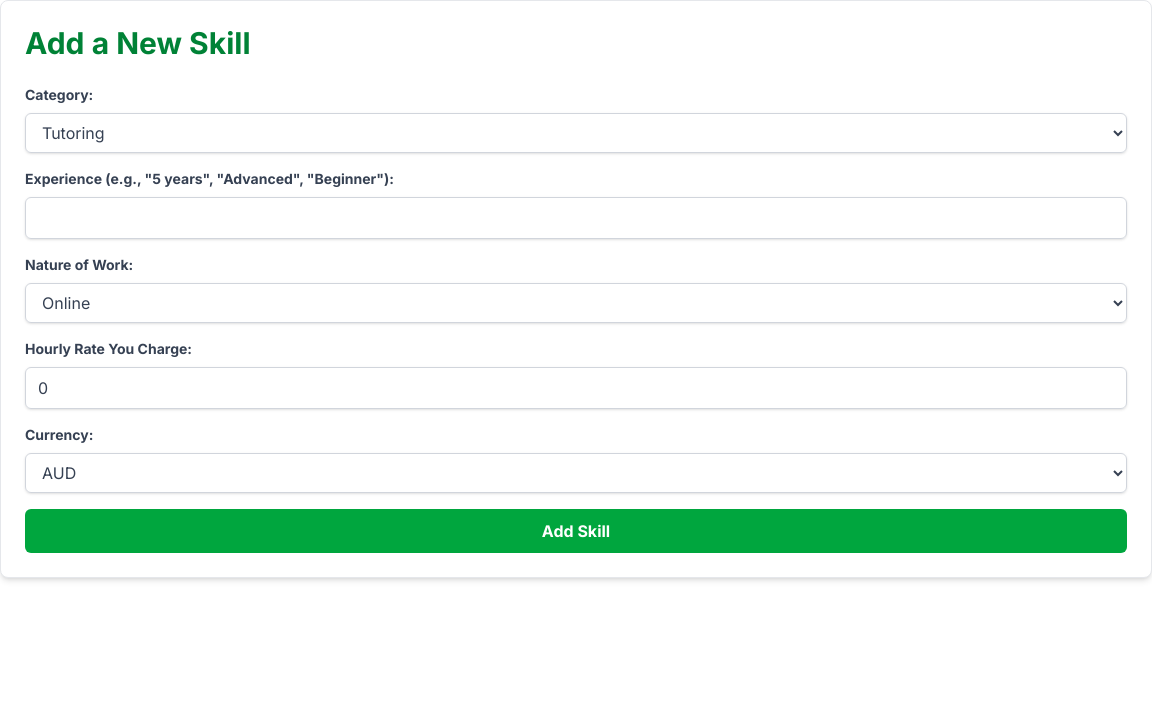
Scenario: CreateSkillPage › shows error if not authorized
Step 1. Type "2 years" into the field labelled "Experience (e.g., \"5 years\", \"Advanced\", \"Beginner\"):" → (576, 218), box [25,197,1127,239]
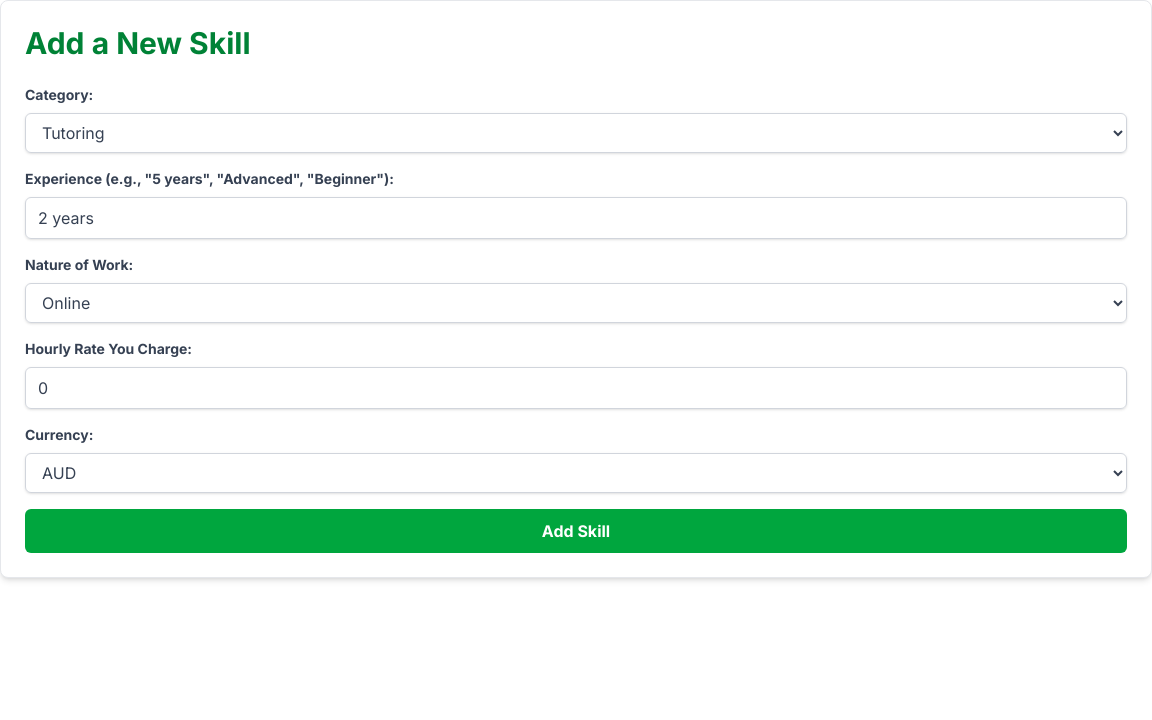
Step 2. Replace the text in the number field labelled "Hourly Rate You Charge:" with "50" → (576, 388), box [25,367,1127,409]
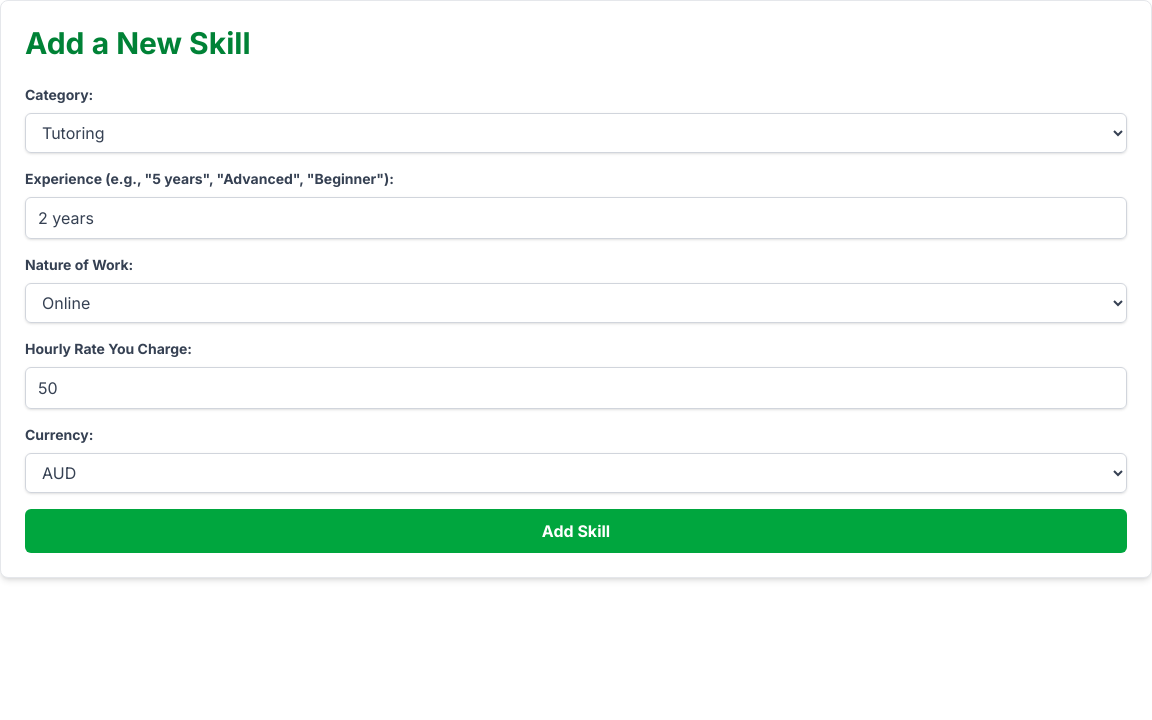
Step 3. Click the button "Add Skill" → (576, 531), box [25,509,1127,553]
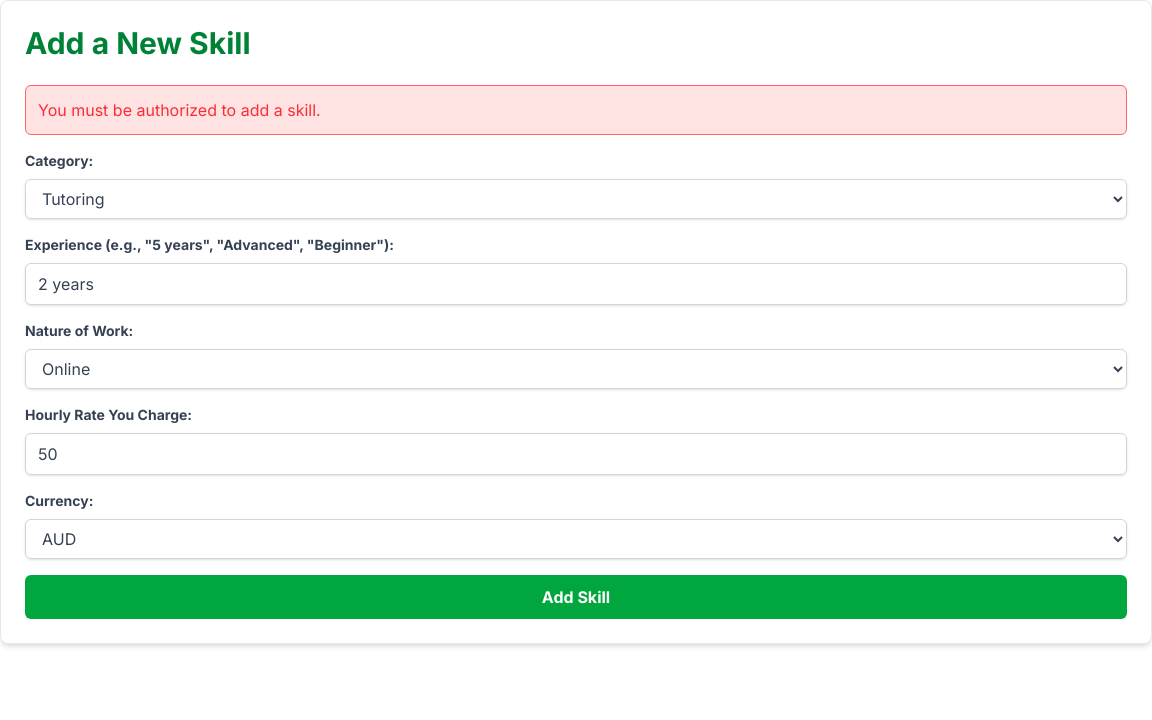
Now the text "You must be authorized to add a skill." is shown, box [25,85,1127,135]
